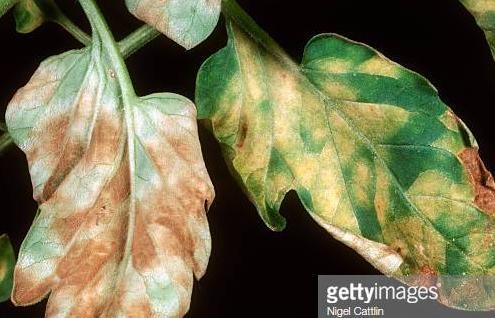Tomato mold leaf: (207, 24, 495, 318)
